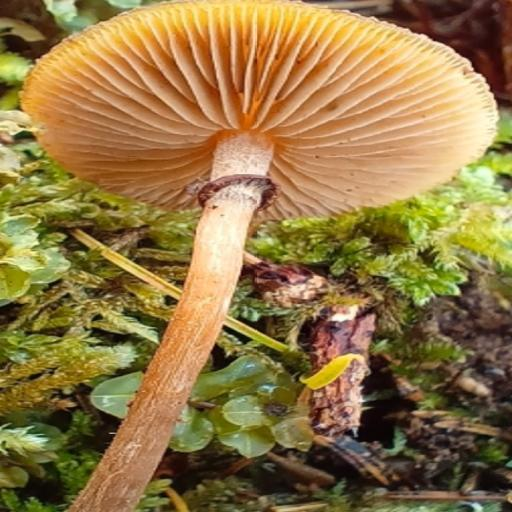mushroom: (21, 1, 496, 387)
